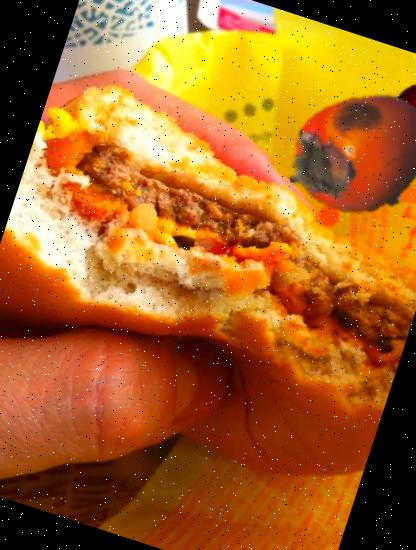Kaki: (265, 61, 416, 250)
Nectarine: (380, 71, 416, 154)
